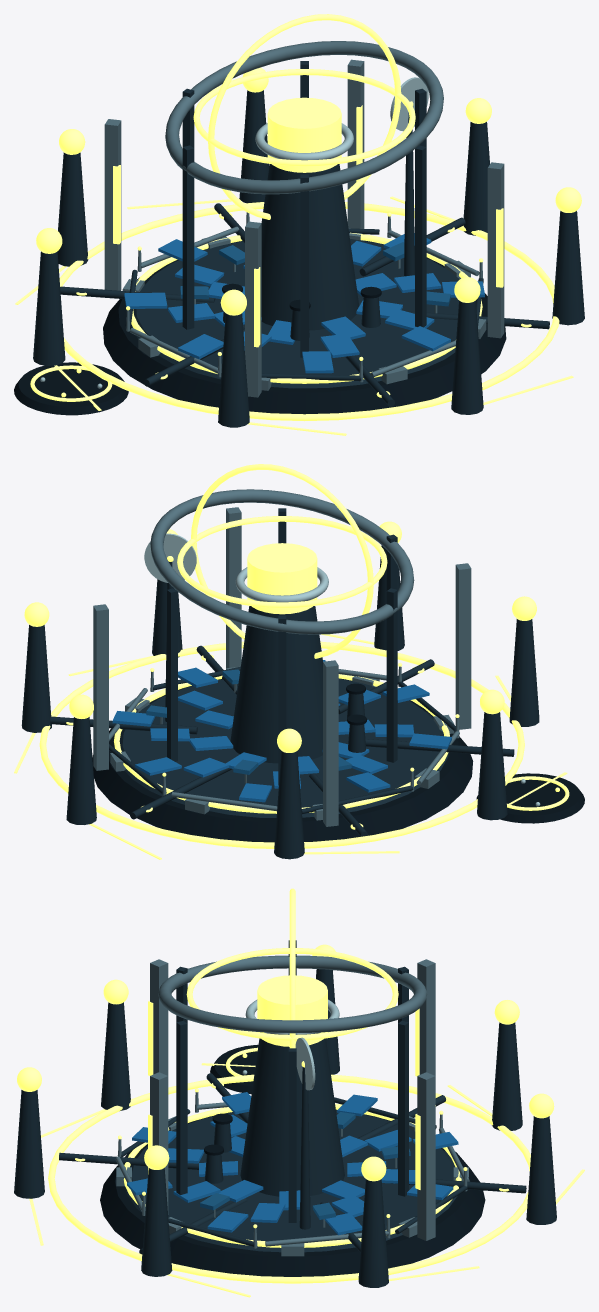
Rendered from solarPlant-stage4.glb.
The picture shows the model from 3 angles, top to bottom: view 1: azimuth 30°, elevation 25°; view 2: azimuth 150°, elevation 25°; view 3: azimuth 270°, elevation 25°; orthographic projection. The views are drawn at different scales.
Parts seen in each view (by area): view 1: upper-deck, receiver-tower, armored-foundation, power-crown, district-grid-3, plasma-receiver, landing-pad, power-crown-field-y, power-crown-field-x, energy-pylon-1, energy-pylon-3, energy-pylon-0 (+36 smaller); view 2: upper-deck, armored-foundation, receiver-tower, power-crown, district-grid-3, plasma-receiver, power-crown-field-y, landing-pad, power-crown-field-x, mega-pylon-1, mega-pylon-2, mega-pylon-3 (+31 smaller); view 3: upper-deck, receiver-tower, armored-foundation, power-crown, district-grid-3, plasma-receiver, mega-pylon-3, energy-pylon-0, energy-pylon-1, energy-pylon-5, energy-pylon-4, energy-pylon-6 (+23 smaller).
Boxes of the visible parts, x1,y1,x2,y2 form: upper-deck: [131, 239, 459, 388]; receiver-tower: [261, 164, 359, 330]; armored-foundation: [103, 240, 506, 414]; power-crown: [165, 41, 443, 194]; district-grid-3: [59, 202, 559, 421]; plasma-receiver: [267, 97, 341, 172]; landing-pad: [14, 362, 128, 415]; power-crown-field-y: [193, 69, 415, 166]; power-crown-field-x: [208, 14, 401, 219]; energy-pylon-1: [451, 300, 483, 414]; energy-pylon-3: [33, 251, 65, 365]; energy-pylon-0: [552, 211, 584, 325]; upper-deck: [119, 678, 448, 817]; armored-foundation: [92, 678, 473, 842]; receiver-tower: [230, 606, 322, 763]; power-crown: [150, 489, 414, 634]; district-grid-3: [39, 641, 524, 848]; plasma-receiver: [247, 543, 317, 614]; power-crown-field-y: [177, 516, 387, 608]; landing-pad: [476, 773, 584, 823]; power-crown-field-x: [191, 464, 373, 658]; mega-pylon-1: [455, 563, 471, 729]; mega-pylon-2: [323, 660, 338, 826]; mega-pylon-3: [93, 604, 108, 770]; upper-deck: [125, 1110, 457, 1252]; receiver-tower: [240, 1038, 344, 1196]; armored-foundation: [100, 1109, 485, 1276]; power-crown: [158, 955, 427, 1033]; district-grid-3: [48, 1074, 530, 1283]; plasma-receiver: [257, 975, 327, 1046]; mega-pylon-3: [417, 1072, 435, 1240]; energy-pylon-0: [141, 1168, 172, 1276]; energy-pylon-1: [14, 1090, 44, 1198]; energy-pylon-5: [526, 1116, 556, 1224]; energy-pylon-4: [492, 1022, 522, 1130]; energy-pylon-6: [358, 1179, 388, 1287].
Bounding box in the file's own units: 18.17 × 10.06 × 17.26.
